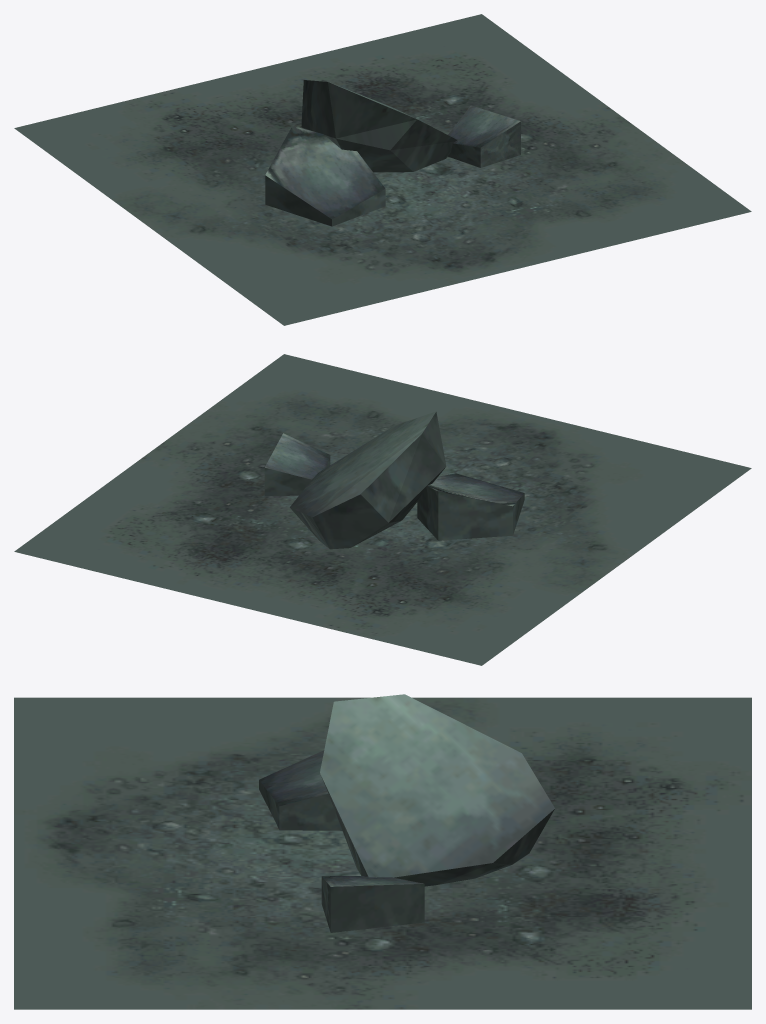
The model's file is crypt_rubble_01.fbx.
3 views of the same model, one above another, from view 1: azimuth 30°, elevation 25°; view 2: azimuth 150°, elevation 25°; view 3: azimuth 270°, elevation 25° (orthographic). The views are drawn at different scales.
Visible parts, largest first — view 1: obj2.003; view 2: obj2.003; view 3: obj2.003.
Boxes of the visible parts, x1,y1,x2,y2 form: obj2.003: (14, 14, 751, 325); obj2.003: (14, 354, 751, 665); obj2.003: (14, 694, 751, 1009).
Size of the model in its own units: 4 by 1.11 by 4.
